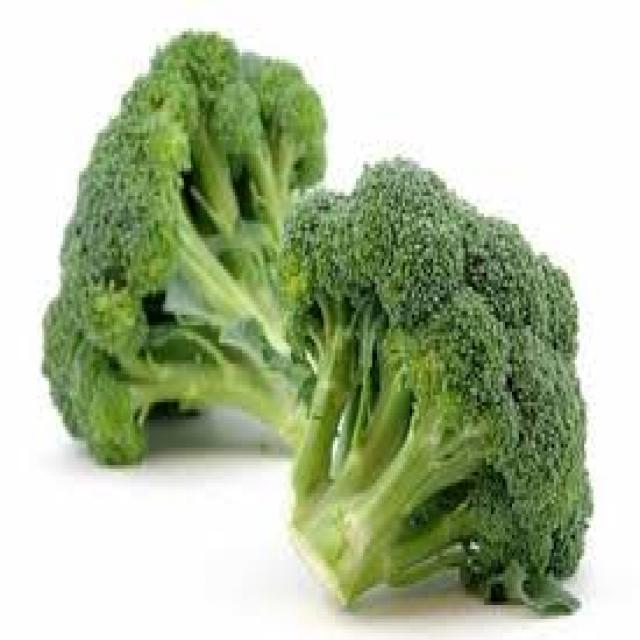broccoli: (278, 136, 596, 630), (30, 20, 365, 478)
